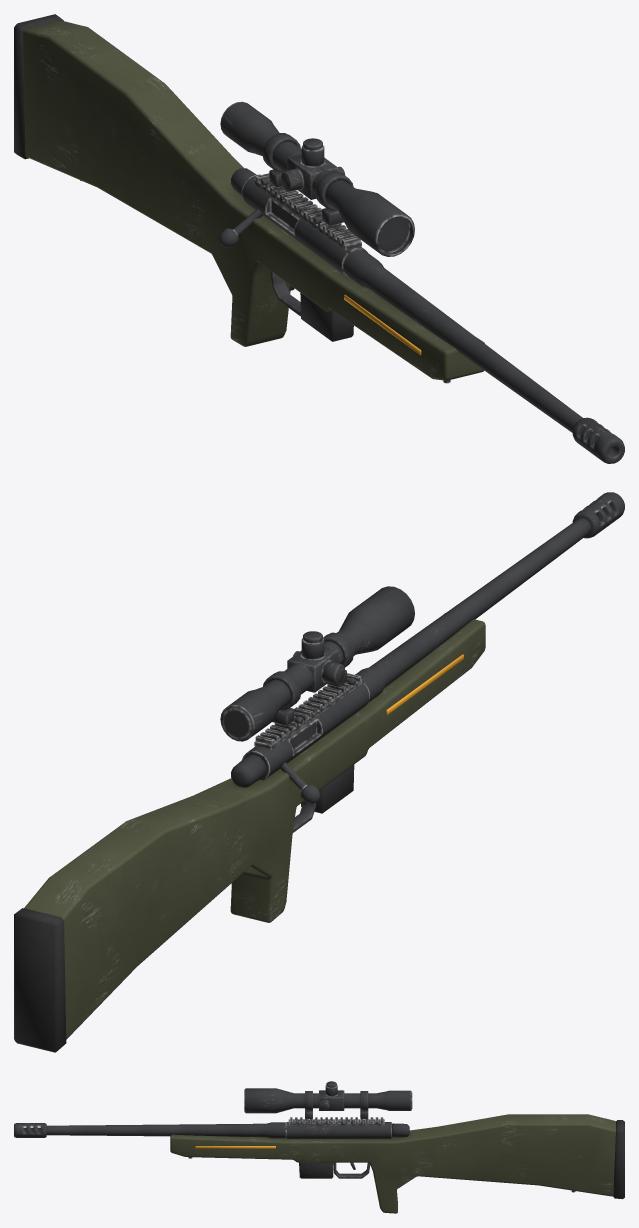
Rendered from sniper.glb.
3 views of the same model, one above another, from view 1: azimuth 30°, elevation 25°; view 2: azimuth 150°, elevation 25°; view 3: azimuth 270°, elevation 25° (orthographic). The views are drawn at different scales.
Parts seen in each view (by area): view 1: Stock, Barrel, Scope, Receiver, ScopeRail, Turrets, ButtPad, MuzzleBrake, Magazine, ScopeRing2, ScopeRing1; view 2: Stock, ButtPad, Scope, Barrel, Receiver, ScopeRail, Turrets, MuzzleBrake, Magazine, ScopeRing1, BoltShroud; view 3: Stock, Barrel, Scope, Receiver, ButtPad, ScopeRail, Turrets, Magazine, MuzzleBrake, TriggerGuard, BoltShroud, ScopeRing1 (+2 smaller).
Part boxes in pixels (left/top/right/bottom): Stock: left=23, top=21, right=484, bottom=380; Barrel: left=343, top=249, right=582, bottom=432; Scope: left=220, top=101, right=414, bottom=256; Receiver: left=241, top=174, right=367, bottom=276; ScopeRail: left=254, top=173, right=361, bottom=250; Turrets: left=280, top=138, right=345, bottom=199; ButtPad: left=14, top=14, right=63, bottom=159; MuzzleBrake: left=572, top=417, right=624, bottom=463; Magazine: left=300, top=293, right=353, bottom=341; ScopeRing2: left=313, top=171, right=353, bottom=225; ScopeRing1: left=260, top=133, right=300, bottom=187; Stock: left=24, top=613, right=485, bottom=1039; ButtPad: left=14, top=908, right=66, bottom=1052; Scope: left=220, top=586, right=414, bottom=741; Barrel: left=355, top=518, right=591, bottom=702; Receiver: left=242, top=681, right=369, bottom=780; ScopeRail: left=254, top=673, right=361, bottom=749; Turrets: left=287, top=631, right=345, bottom=692; MuzzleBrake: left=572, top=492, right=624, bottom=538; Magazine: left=301, top=764, right=354, bottom=813; ScopeRing1: left=263, top=671, right=302, bottom=725; BoltShroud: left=231, top=754, right=266, bottom=787; Stock: left=170, top=1114, right=615, bottom=1213; Barrel: left=46, top=1122, right=286, bottom=1138; Scope: left=244, top=1088, right=412, bottom=1113; Receiver: left=286, top=1122, right=391, bottom=1138; ButtPad: left=613, top=1120, right=624, bottom=1199; ScopeRail: left=288, top=1117, right=384, bottom=1125; Turrets: left=319, top=1081, right=344, bottom=1110; Magazine: left=299, top=1162, right=333, bottom=1178; MuzzleBrake: left=14, top=1123, right=46, bottom=1137; TriggerGuard: left=334, top=1162, right=370, bottom=1178; BoltShroud: left=392, top=1123, right=409, bottom=1137; ScopeRing1: left=360, top=1091, right=368, bottom=1118.
Bounding box in the file's own units: 0.088 × 0.2747 × 1.21.
Materials: 5 (3 with a texture image).
